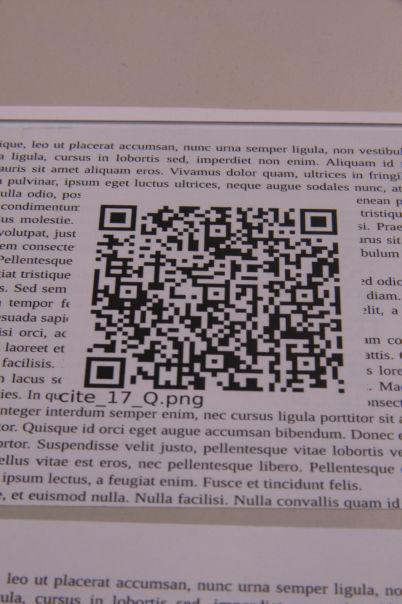Finder pattern: (78, 352, 131, 391), (95, 202, 143, 235), (297, 205, 344, 237)
